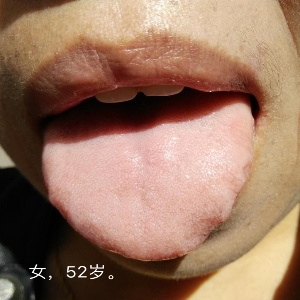st: (36, 126, 262, 262)
